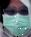with_mask: (1, 2, 31, 37)
